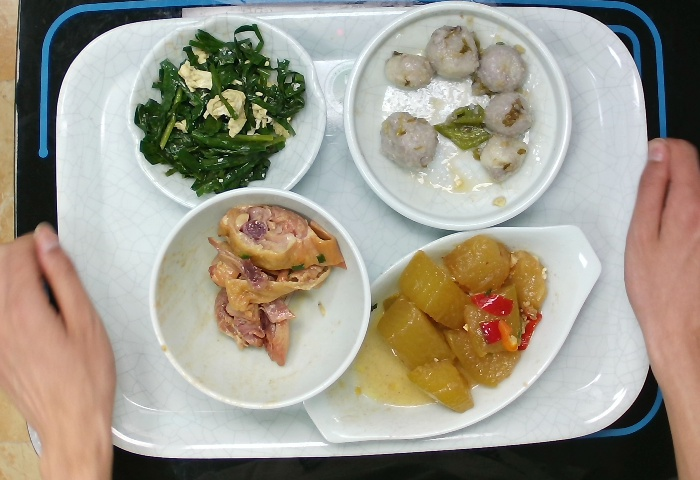JYsf-Ao_Yuan_Wan: (119, 10, 331, 209)
JYsf-Fan_Wan: (147, 187, 371, 414)
JYsf-Xiao_Yuan_Pan: (342, 4, 580, 236)
JYsf-Yu_Pan: (299, 221, 605, 445)
